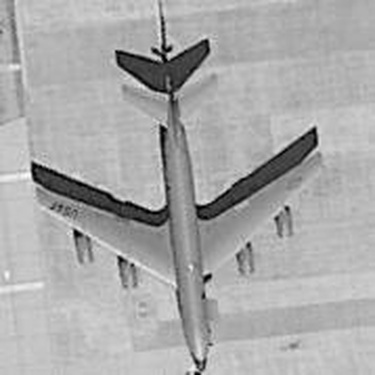airplane: (25, 39, 331, 370)
